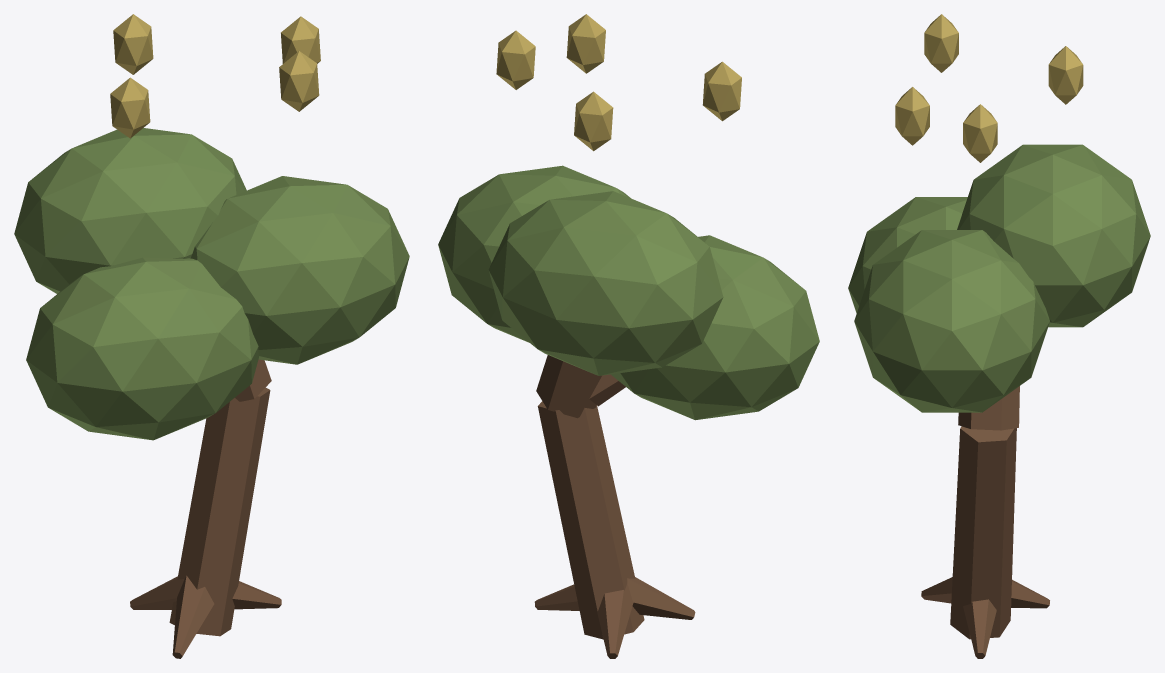
Rendered from map-boundaries-v5__farm_10.glb.
3 views of the same model, side by side, from view 1: azimuth 30°, elevation 25°; view 2: azimuth 150°, elevation 25°; view 3: azimuth 270°, elevation 25° (orthographic). The views are drawn at different scales.
Parts seen in each view (by area): view 1: farm_10; view 2: farm_10; view 3: farm_10.
Boxes of the visible parts, x1=… form: farm_10: x1=14, y1=14, x2=409, y2=658; farm_10: x1=438, y1=14, x2=819, y2=658; farm_10: x1=848, y1=14, x2=1150, y2=658.
Size of the model in its own units: 1.95 by 3.09 by 1.48.
